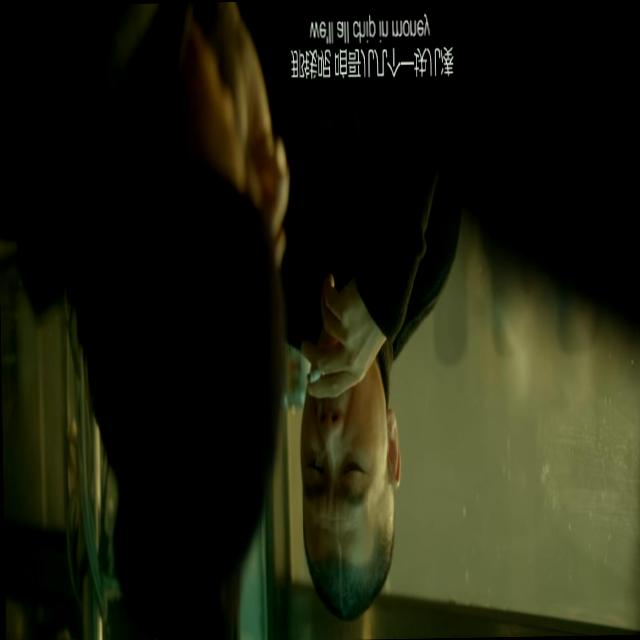cigarette: (304, 349, 322, 390)
